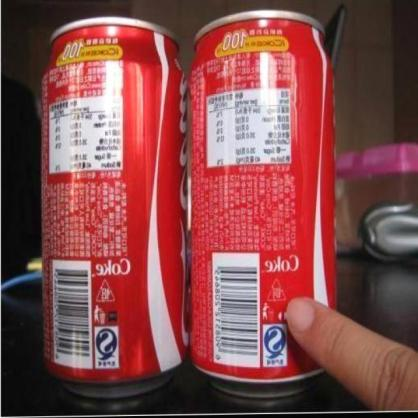can: (38, 14, 188, 400), (190, 9, 336, 400)
